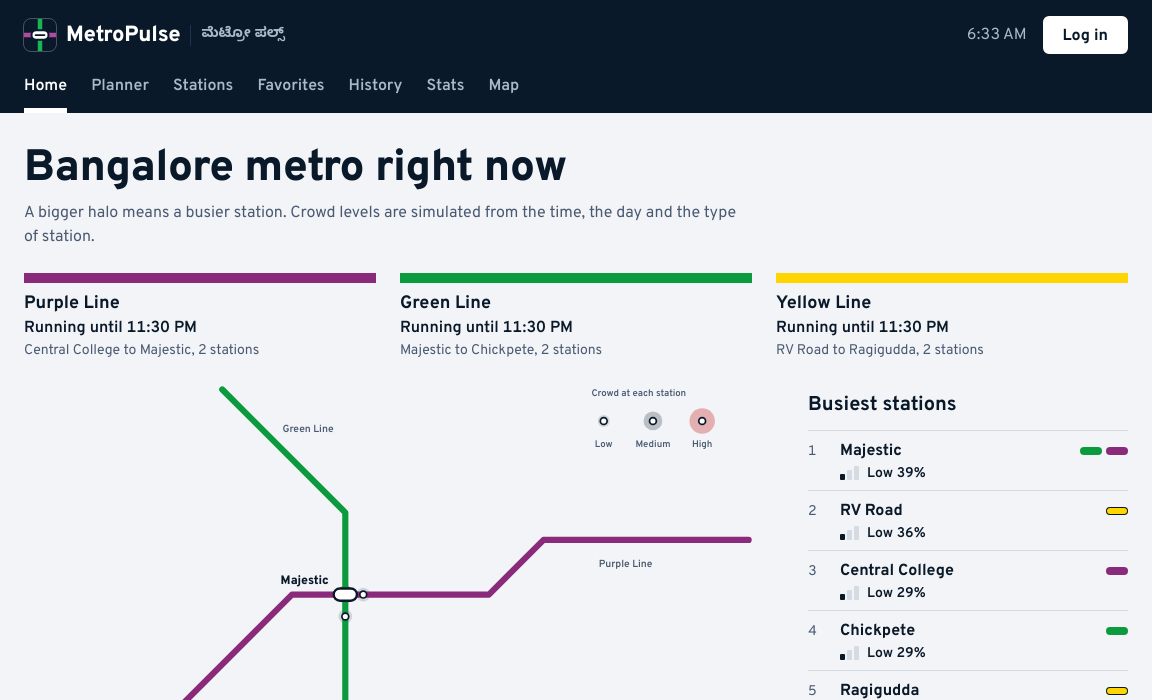
logging in shows the username in the masthead
expect the heading "Bangalore metro right now" is shown: met, box [24,141,567,197]
Click the button "Log in" at {"x": 1085, "y": 35}, box [1042,16,1128,54]
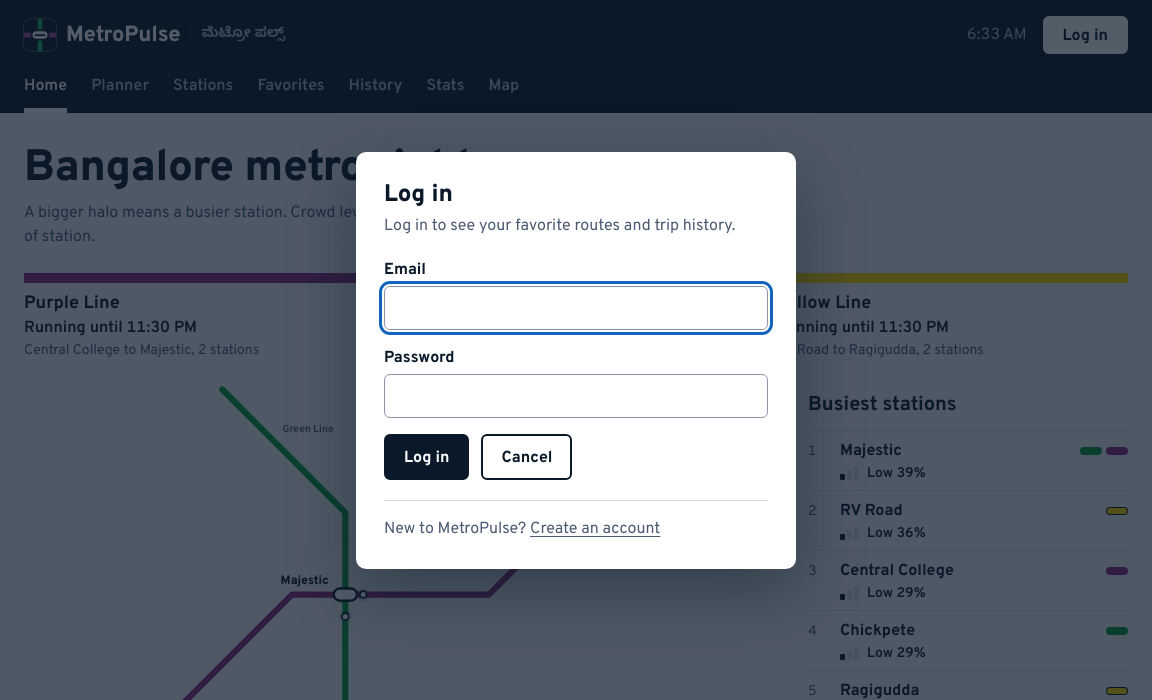
Type "asha@example.com" into the field labelled "Email" at {"x": 576, "y": 308}, box [384,286,768,330]
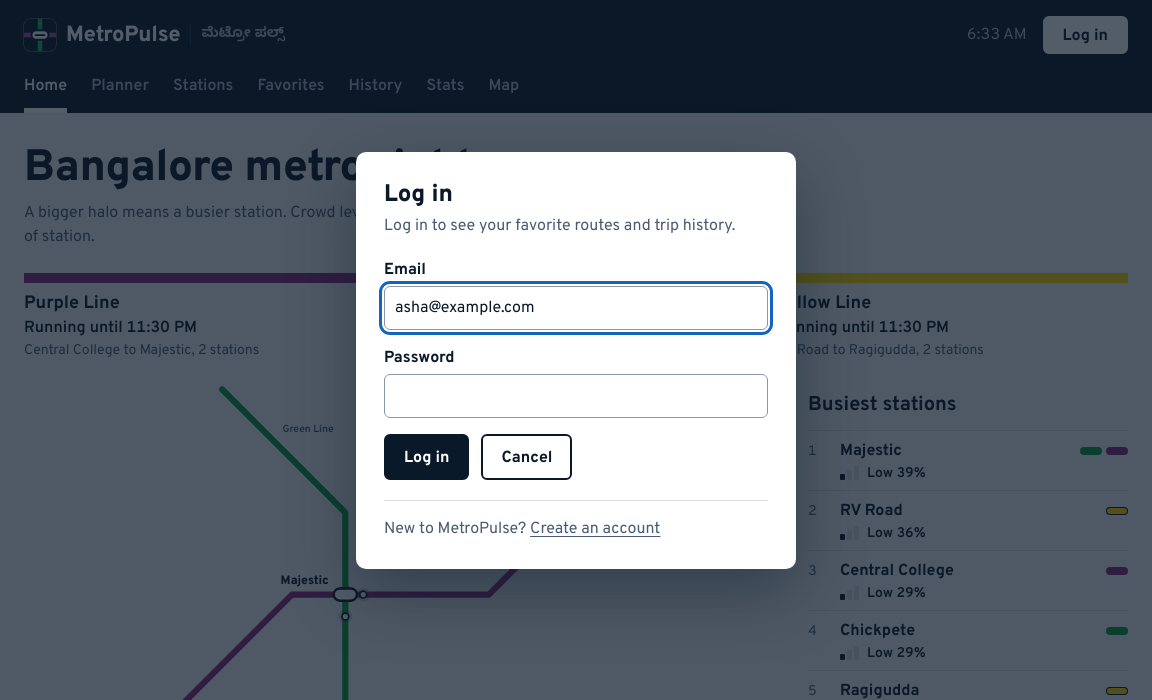
Type "password123" into the password field labelled "Password" at {"x": 576, "y": 396}, box [384,374,768,418]
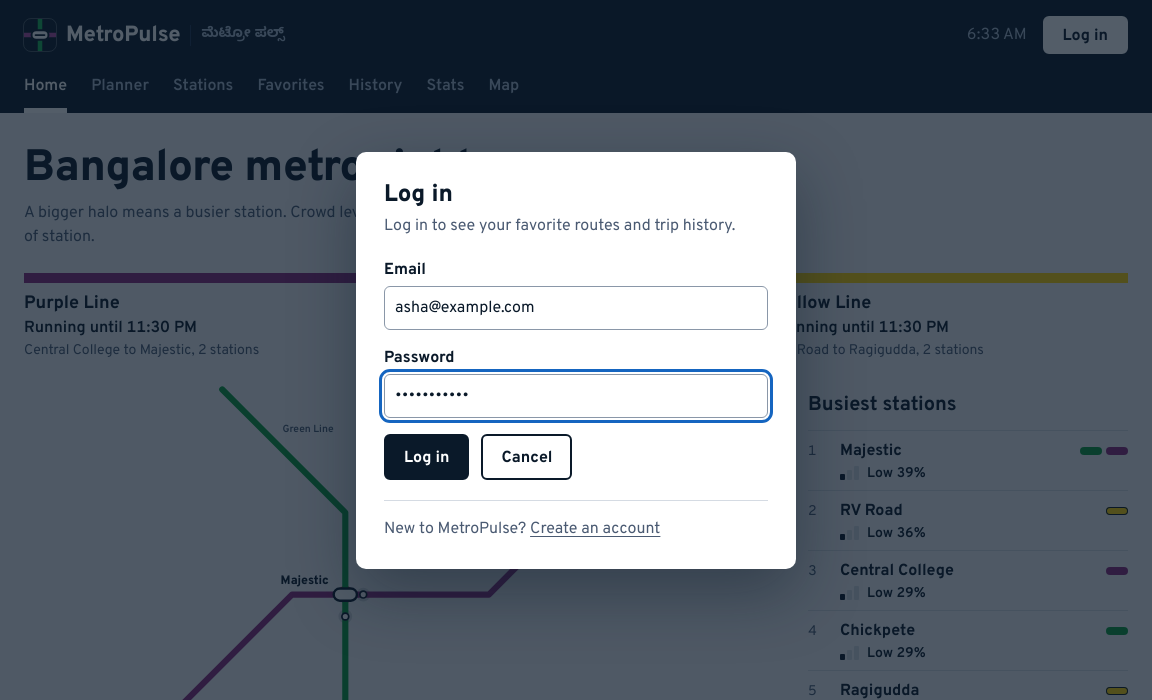
Click the button "Log in" at {"x": 427, "y": 456}, box [384,434,470,480]
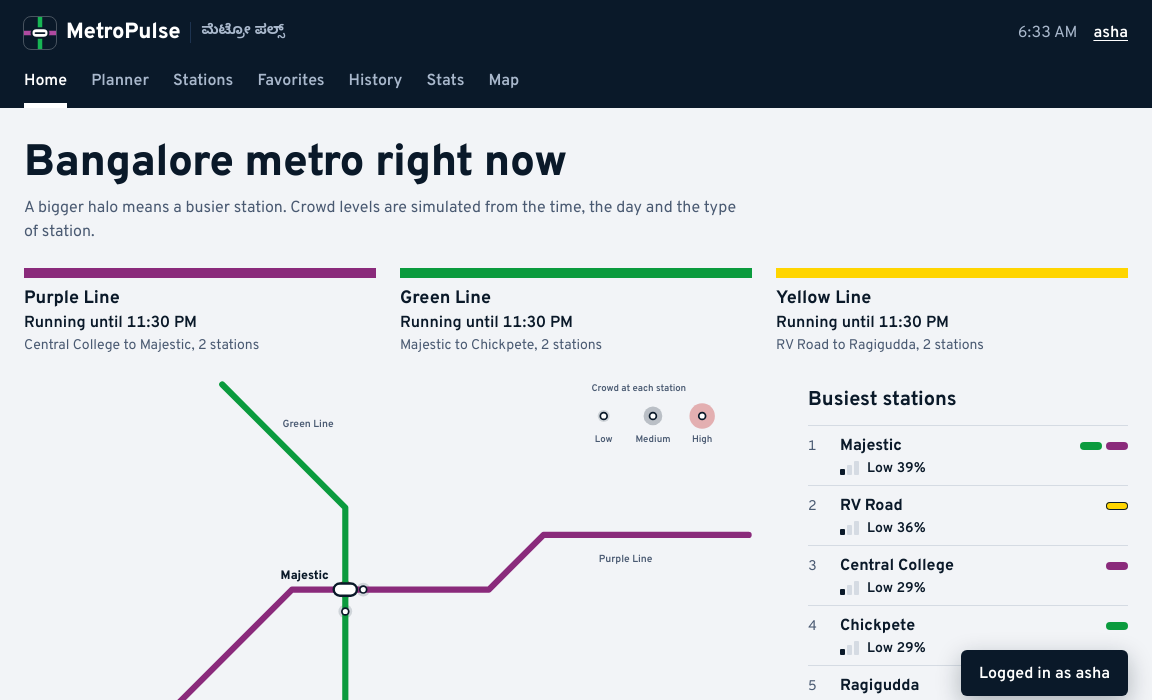
expect the link "asha" is shown: met, box [1093,20,1128,44]
